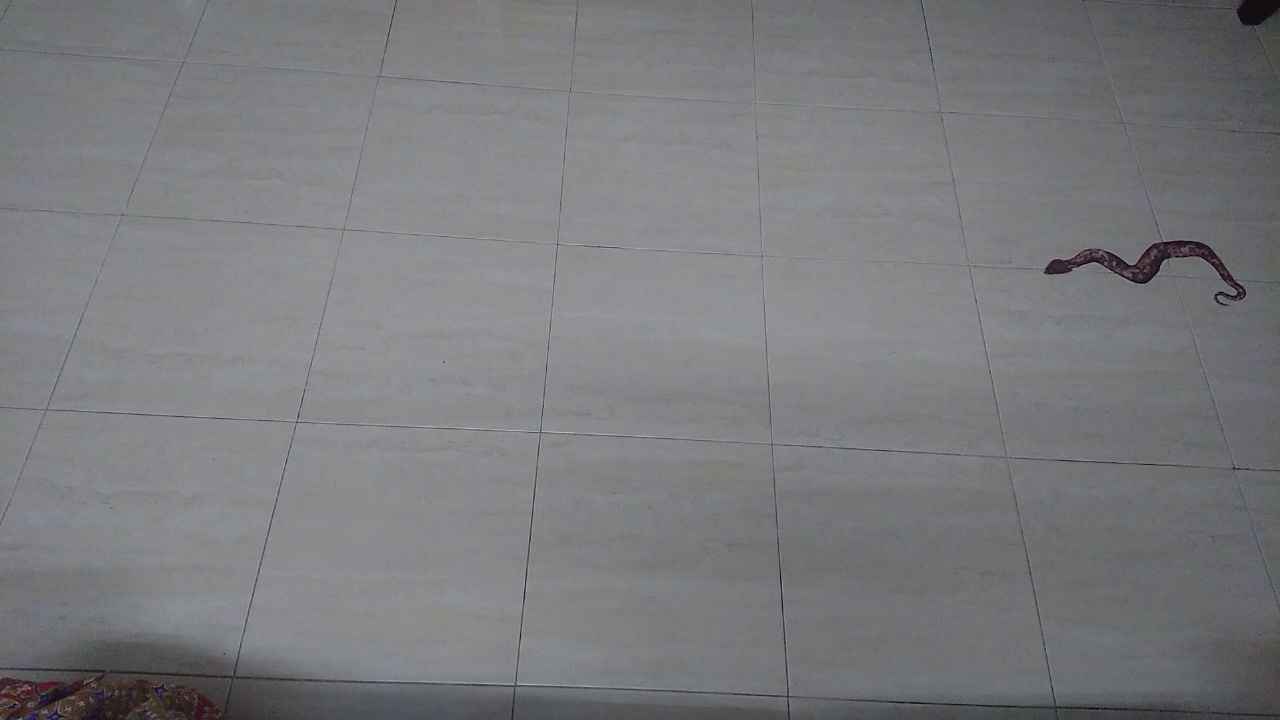snake: (1024, 226, 1252, 313)
